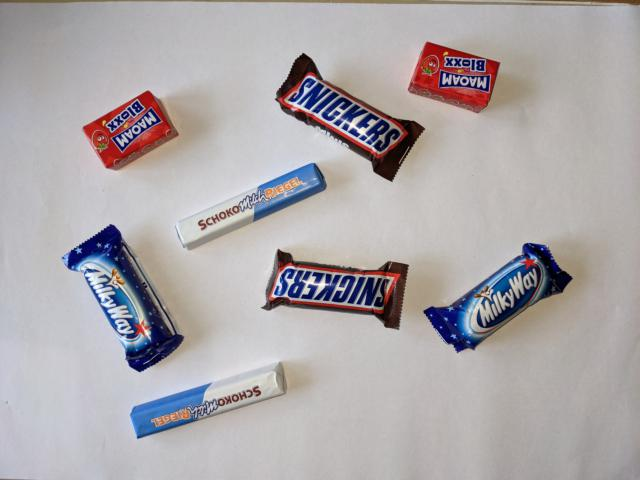MAOAM: (79, 89, 181, 172), (404, 38, 504, 116)
MilkyWay: (57, 221, 186, 373), (420, 241, 574, 357)
Schokoriegel: (169, 159, 331, 254), (128, 359, 291, 444)
Snickers: (271, 49, 428, 185), (258, 247, 411, 332)
